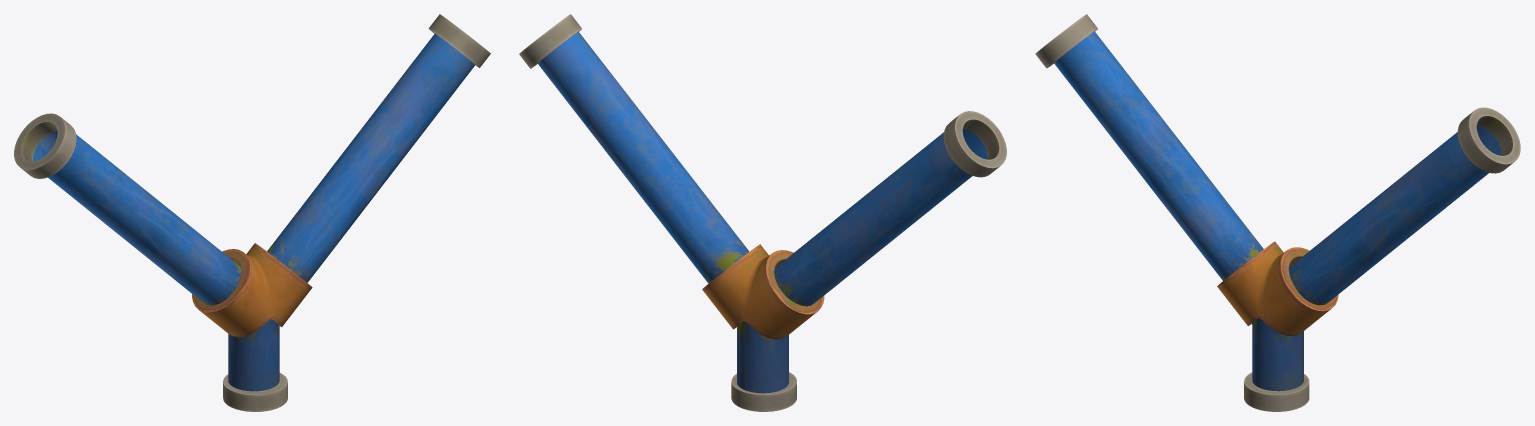
File: input_lp.fbx
3 views of the same model, side by side, from view 1: azimuth 30°, elevation 25°; view 2: azimuth 150°, elevation 25°; view 3: azimuth 330°, elevation 25° (orthographic).
Parts seen in each view (by area): view 1: Wye Joint.001; view 2: Wye Joint.001; view 3: Wye Joint.001.
Part boxes in pixels (left/top/right/bottom): Wye Joint.001: left=14, top=14, right=490, bottom=411; Wye Joint.001: left=519, top=14, right=1006, bottom=411; Wye Joint.001: left=1035, top=14, right=1520, bottom=411.
Bounding box in the file's own units: 294 × 199 × 39.78.
